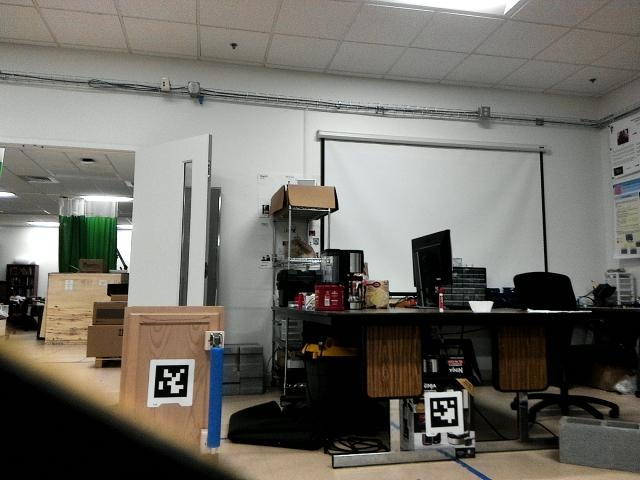noodle_handle: (205, 341, 230, 449)
